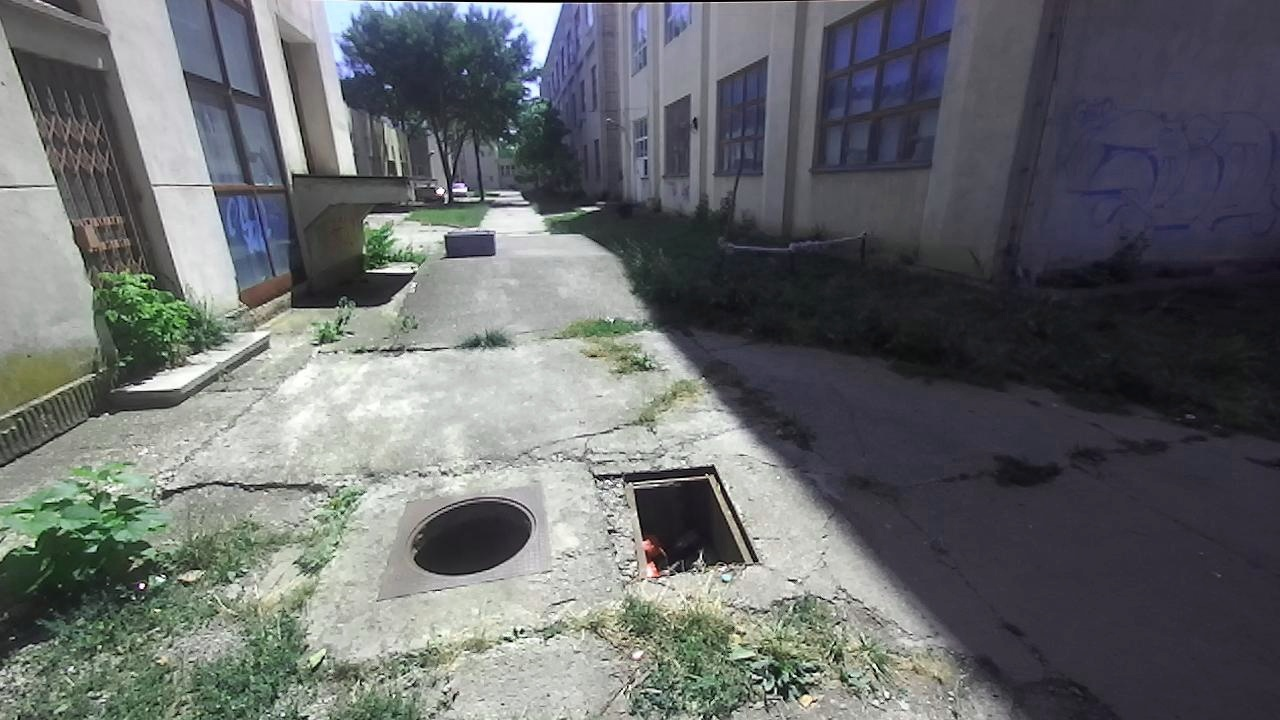drain: (617, 456, 767, 583), (404, 490, 540, 580)
